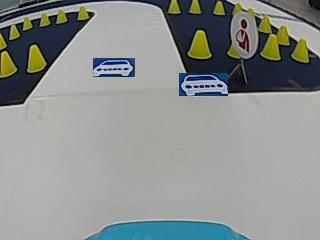cone: (187, 30, 211, 59), (27, 44, 45, 72), (261, 35, 280, 60), (0, 50, 17, 76), (292, 37, 309, 62), (277, 25, 289, 44), (258, 14, 271, 31), (167, 0, 180, 14), (212, 1, 225, 15), (76, 6, 89, 20), (9, 24, 21, 39), (56, 9, 68, 23), (189, 1, 201, 14), (39, 13, 50, 26), (22, 16, 33, 29), (0, 32, 7, 48)
patient: (234, 10, 256, 54)
